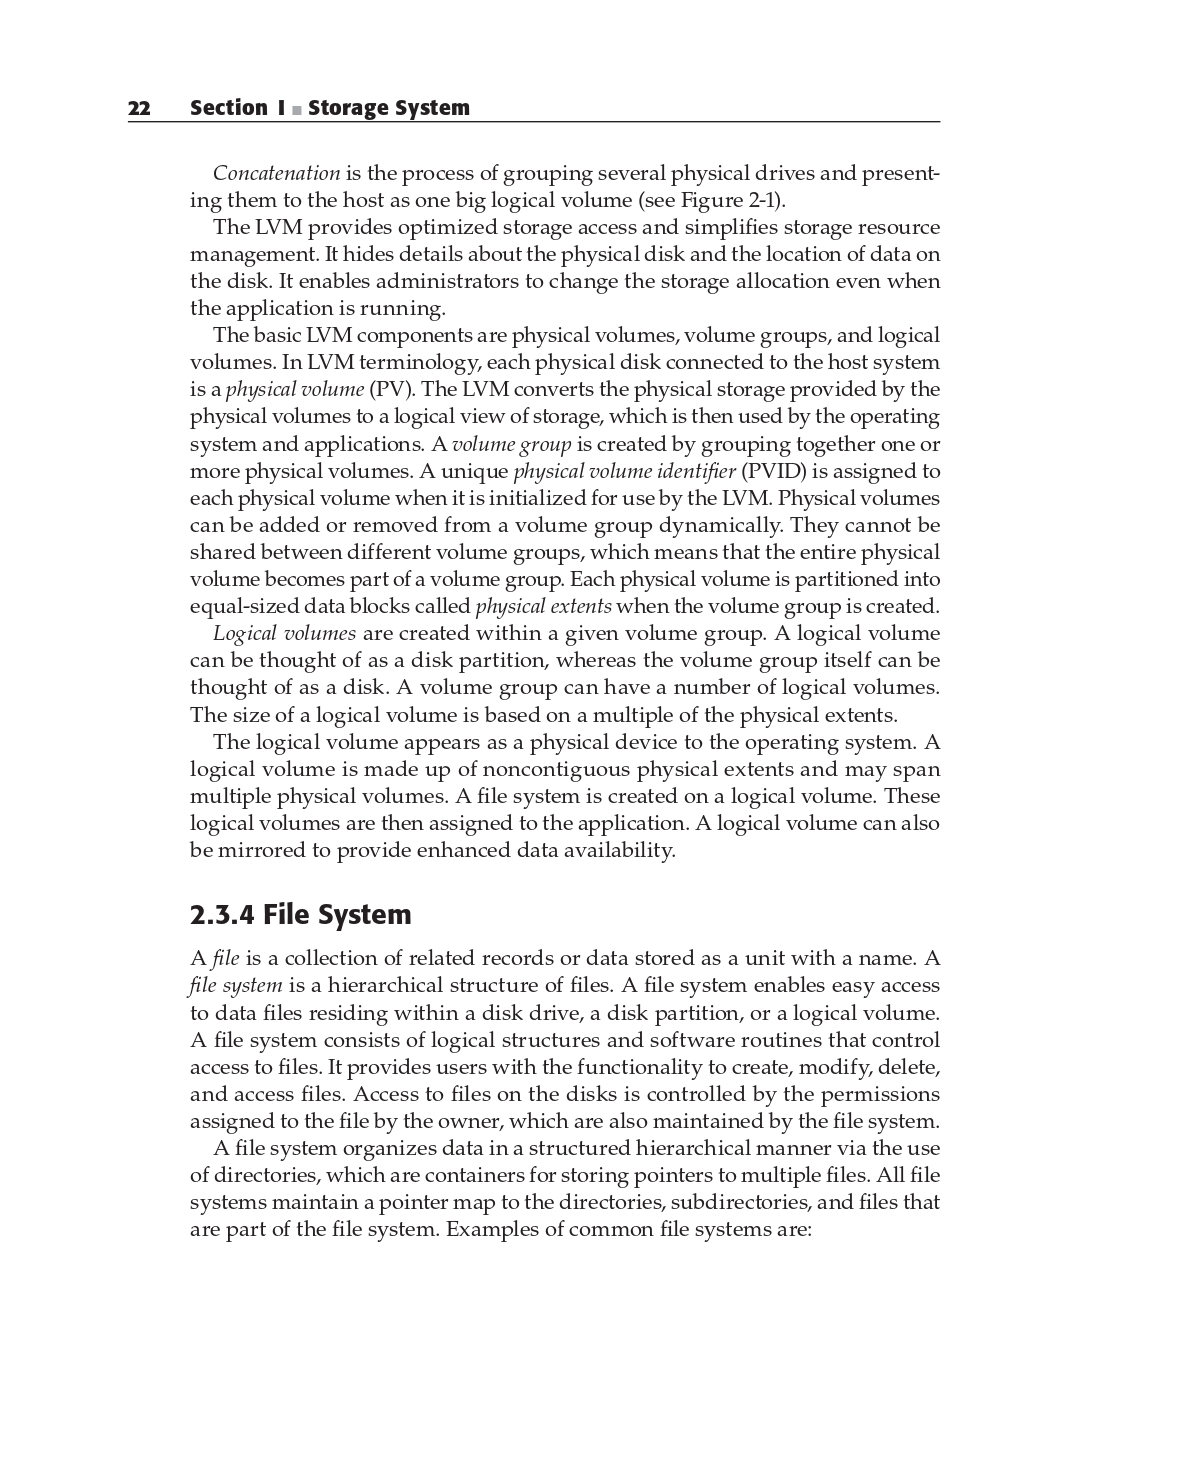Paragraph: (181, 941, 943, 1247), (181, 319, 949, 616), (187, 725, 958, 870), (190, 616, 941, 725), (184, 213, 958, 319), (187, 149, 943, 216), (120, 91, 497, 122), (178, 897, 423, 934)
